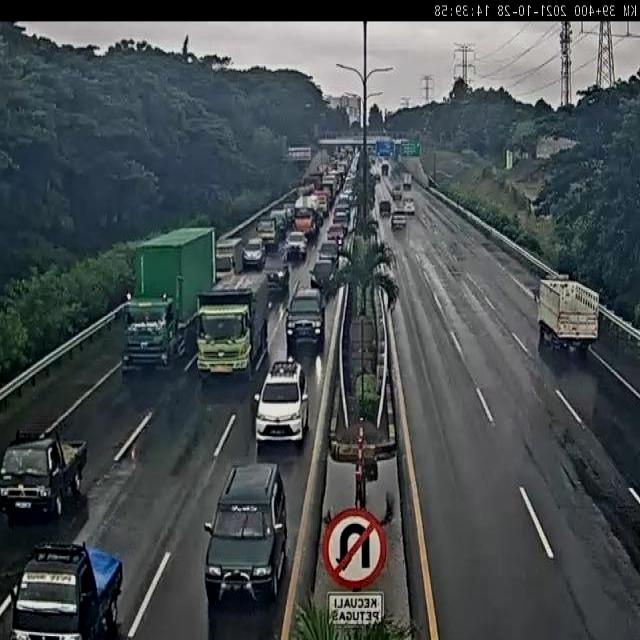Car: (203, 462, 292, 609), (9, 540, 123, 639), (1, 422, 88, 522), (254, 358, 310, 448), (284, 284, 326, 356), (313, 242, 341, 288), (264, 251, 291, 290), (255, 217, 278, 253), (242, 238, 266, 271), (285, 230, 308, 260), (270, 209, 288, 243), (334, 196, 352, 226), (326, 223, 345, 244), (391, 210, 407, 230), (283, 204, 296, 226), (379, 199, 391, 218), (392, 183, 403, 200), (402, 172, 412, 190), (404, 198, 415, 214)
